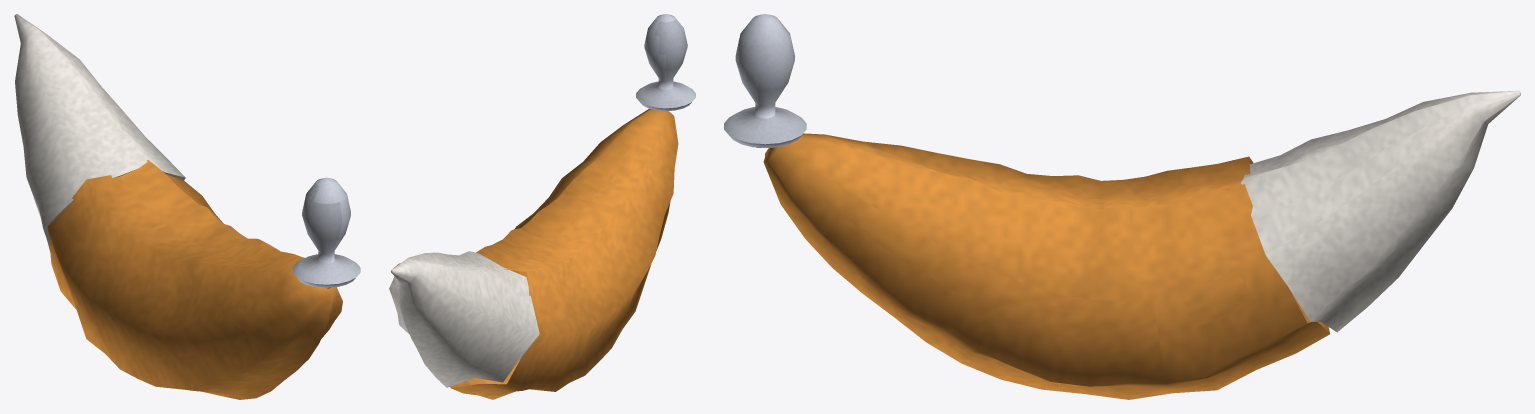
Rendered from Toy_TailPlug.fbx.
The picture shows the model from 3 angles, left to right: view 1: azimuth 30°, elevation 25°; view 2: azimuth 150°, elevation 25°; view 3: azimuth 270°, elevation 25°; orthographic projection. The views are drawn at different scales.
Parts seen in each view (by area): view 1: Toy_TailPlug; view 2: Toy_TailPlug; view 3: Toy_TailPlug.
Part boxes in pixels (box(x1,y1,x2,y2)): Toy_TailPlug: box(14, 14, 360, 399); Toy_TailPlug: box(389, 14, 695, 399); Toy_TailPlug: box(724, 14, 1520, 399).
Bounding box in the file's own units: 0.131 × 0.2503 × 0.4752.
4 materials, 4 textured.
